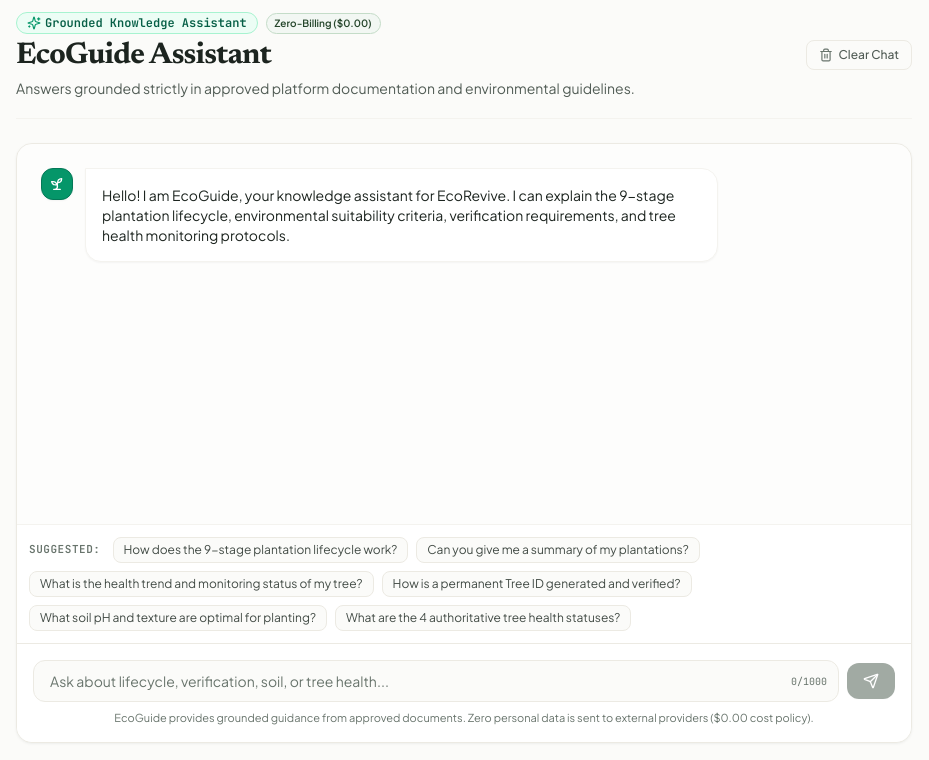
it: UI Bug Fix: EcoGuide Scroll Position & Auto-Scroll Scoping › 3. Scoped Internal Feed Auto-Scrolling › scrolls only the internal messages feed container when sending messages, never window
The image size is (929, 760).
Type "Explain 9 stages" into the field with test id "ecoguide-input" at coordinates (436, 680), box [33,660,839,702]
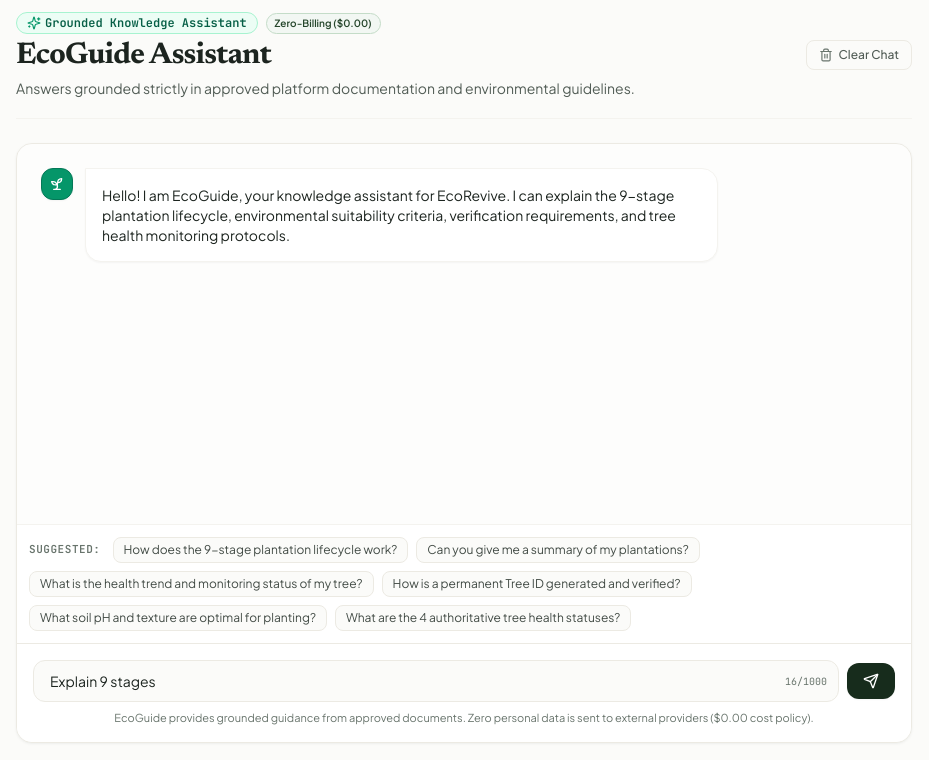
Click the button with test id "ecoguide-send" at coordinates (871, 680), box [847,662,895,698]
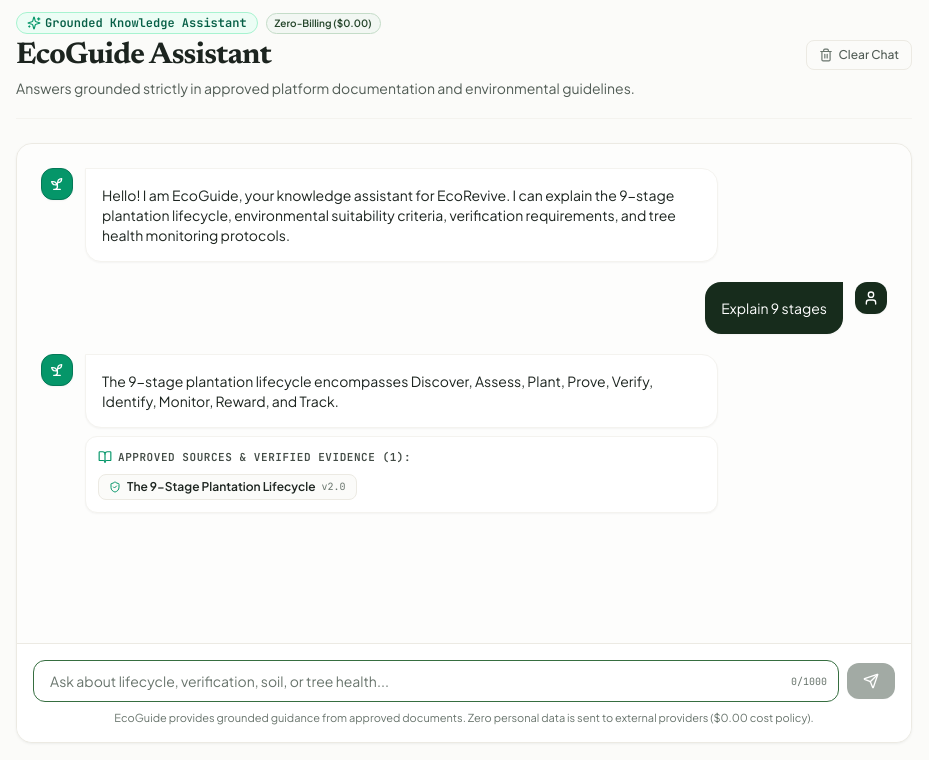
expect the text "The 9-stage plantation lifecycle encompasses" is shown: met, box [102,372,655,410]
expect the text "Approved Sources & Verified Evidence (1):" is shown: met, box [98,450,411,464]
